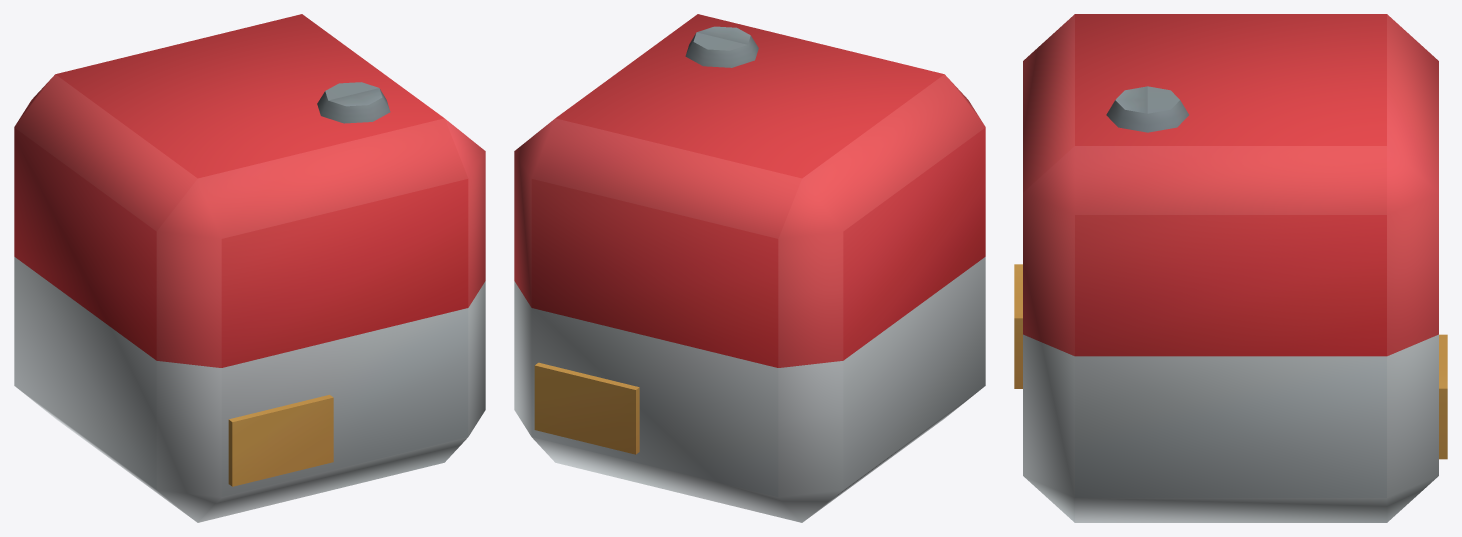
The model's file is kay-carga-caixa.gltf.
3 renders of one model, left to right at view 1: azimuth 30°, elevation 25°; view 2: azimuth 150°, elevation 25°; view 3: azimuth 270°, elevation 25°, orthographic. The views are drawn at different scales.
Visible parts, largest first — view 1: cargo_A; view 2: cargo_A; view 3: cargo_A.
Part boxes in pixels (left/top/right/bottom): cargo_A: left=14, top=14, right=485, bottom=522; cargo_A: left=514, top=14, right=985, bottom=522; cargo_A: left=1014, top=14, right=1447, bottom=522.
Bounding box in the file's own units: 1.3 × 1.35 × 1.35.
Materials: 1 (1 with a texture image).
